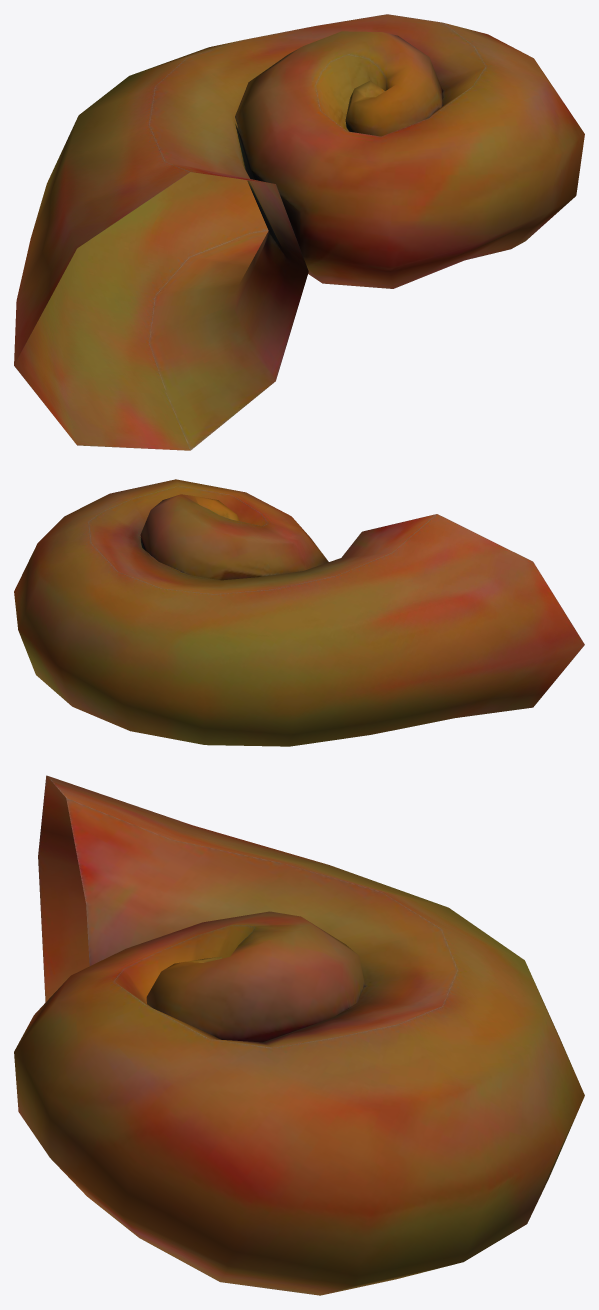
File: conchiglia.obj
3 views of the same model, one above another, from view 1: azimuth 30°, elevation 25°; view 2: azimuth 150°, elevation 25°; view 3: azimuth 270°, elevation 25° (orthographic). The views are drawn at different scales.
Parts seen in each view (by area): view 1: BezierCurve_CUBezierCurve; view 2: BezierCurve_CUBezierCurve; view 3: BezierCurve_CUBezierCurve.
Boxes of the visible parts, bbox=[...] form: BezierCurve_CUBezierCurve: bbox=[14, 14, 584, 450]; BezierCurve_CUBezierCurve: bbox=[14, 479, 584, 746]; BezierCurve_CUBezierCurve: bbox=[14, 775, 584, 1295].
Size of the model in its own units: 5.09 by 2.23 by 3.2.
